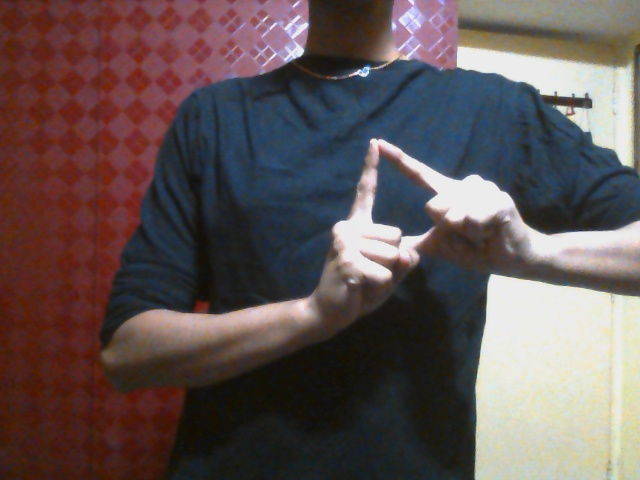D: (318, 135, 534, 329)
